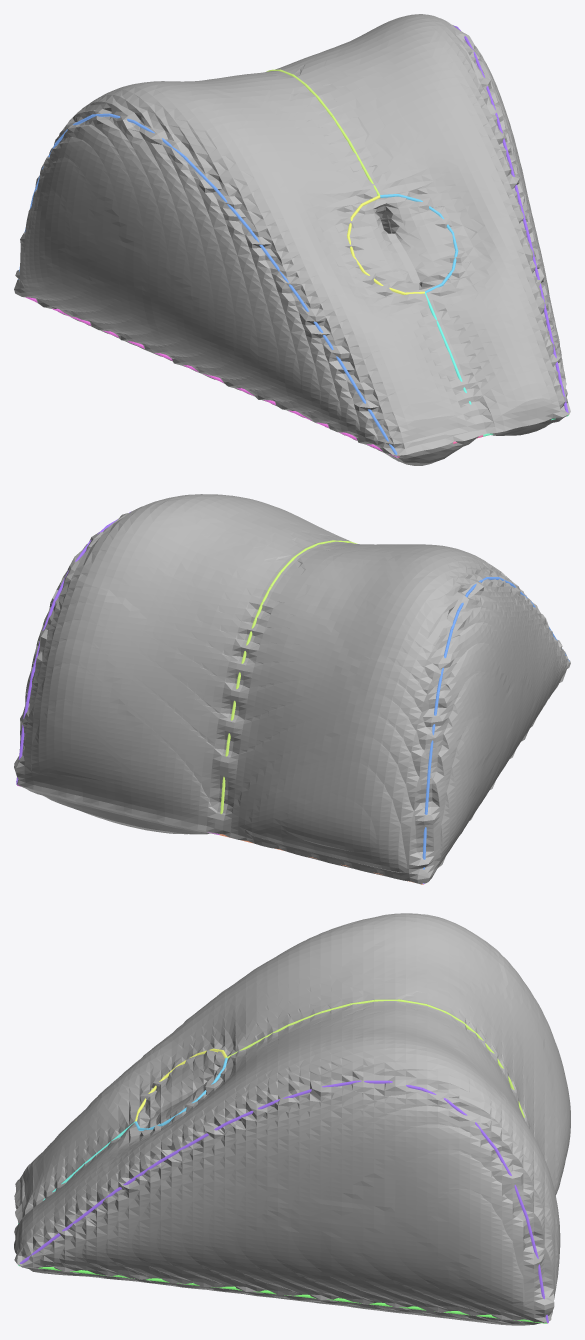
Rendered from onshape_simple_mouse.gltf.
3 renders of one model, top to bottom at view 1: azimuth 30°, elevation 25°; view 2: azimuth 150°, elevation 25°; view 3: azimuth 270°, elevation 25°, orthographic.
Size of the model in its own units: 0.6644 by 0.4068 by 0.7446.
